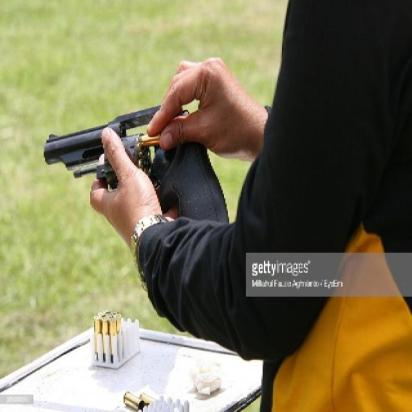Gun: (36, 85, 232, 225)
